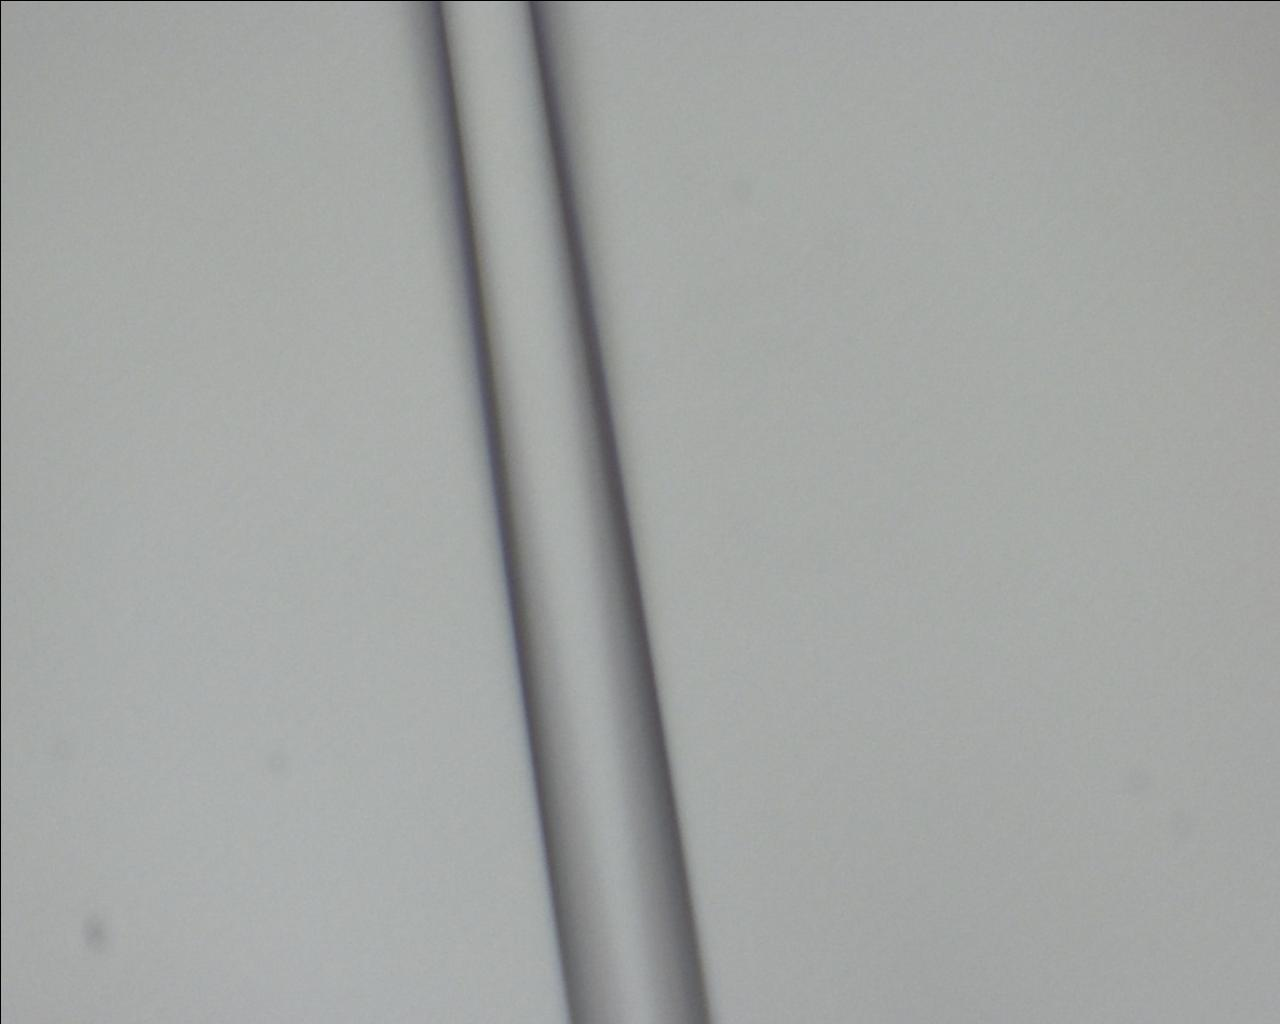fiber: (128, 527, 1152, 583)
